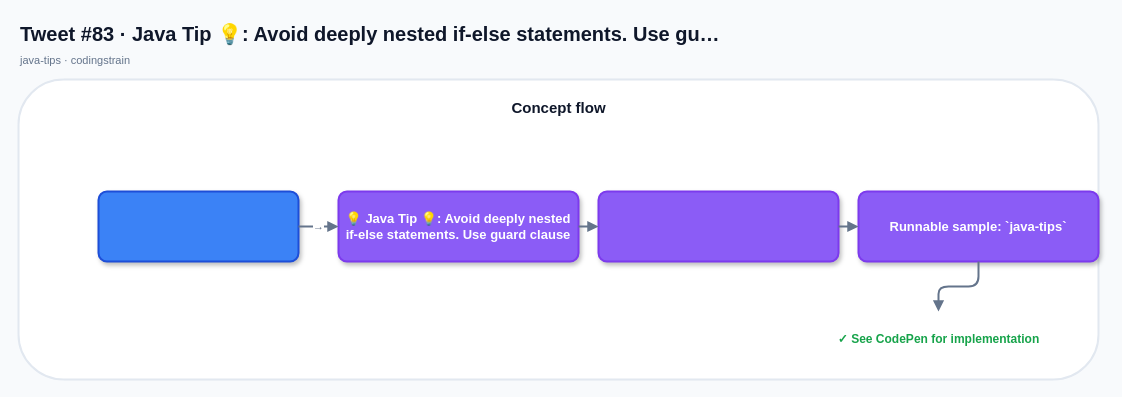
Some shapes in this 1122 by 397 pixel diagram are drawn without their labels. Here are the shapes that lost their labels. From the top down, the centre of each, then its label:
At (x=199, y=227): "Problem / context".
At (x=719, y=227): "Java Tip 💡: Avoid deeply nested if-else statements. Use guard clauses".
